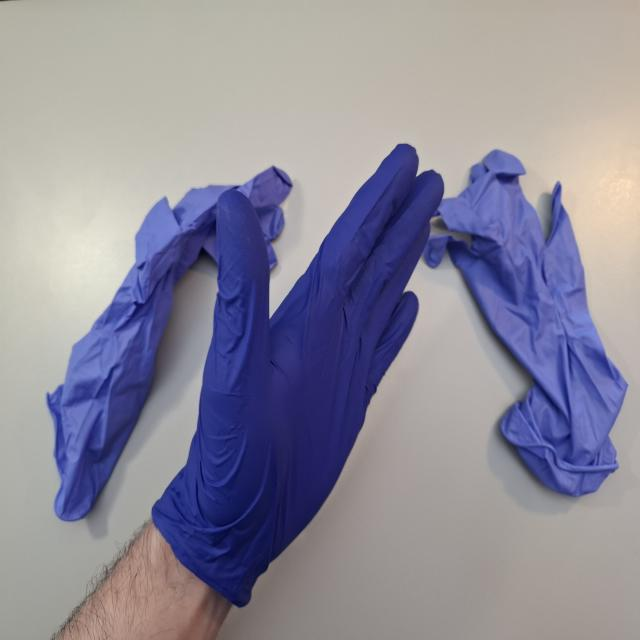glove_on: (186, 141, 446, 588)
